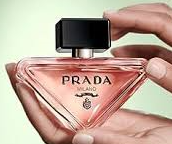prada_paradoxe: (13, 13, 150, 131)
